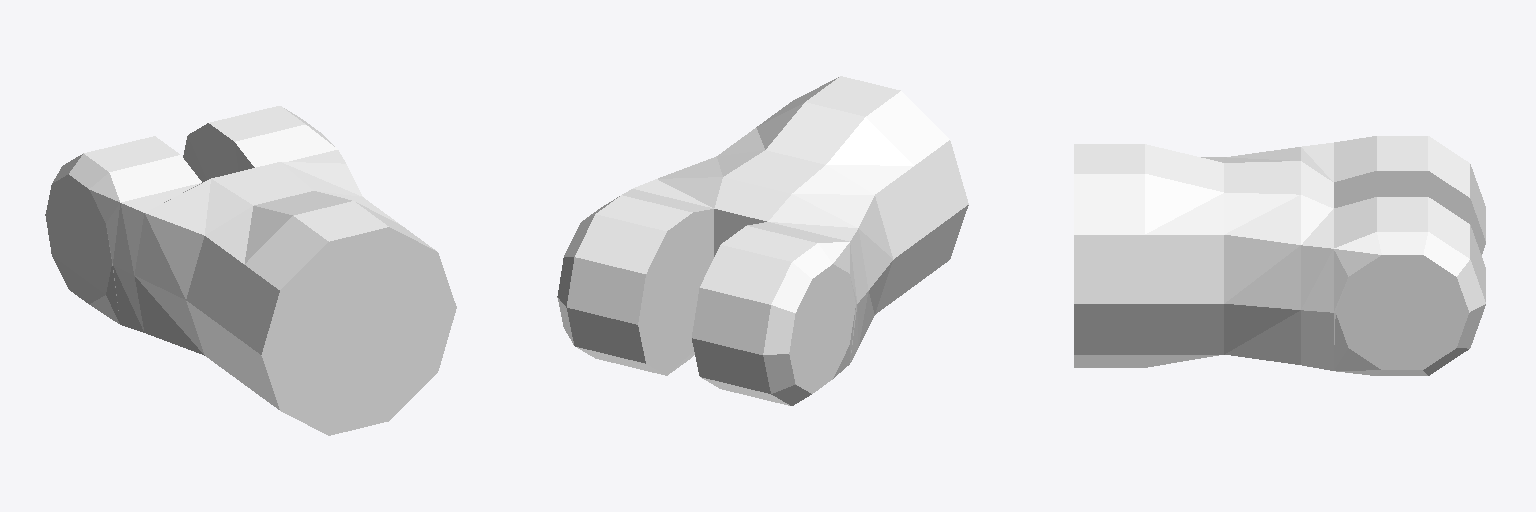
The model's file is l_farm.obj.
3 views of the same model, side by side, from view 1: azimuth 30°, elevation 25°; view 2: azimuth 150°, elevation 25°; view 3: azimuth 270°, elevation 25° (orthographic).
Parts seen in each view (by area): view 1: <dummy_root>; view 2: <dummy_root>; view 3: <dummy_root>.
Boxes of the visible parts, box(x1,y1,x2,y2) form: <dummy_root>: box(45, 106, 456, 435); <dummy_root>: box(557, 76, 968, 405); <dummy_root>: box(1074, 136, 1485, 375).
Size of the model in its own units: 0.1246 by 0.0994 by 0.1915.